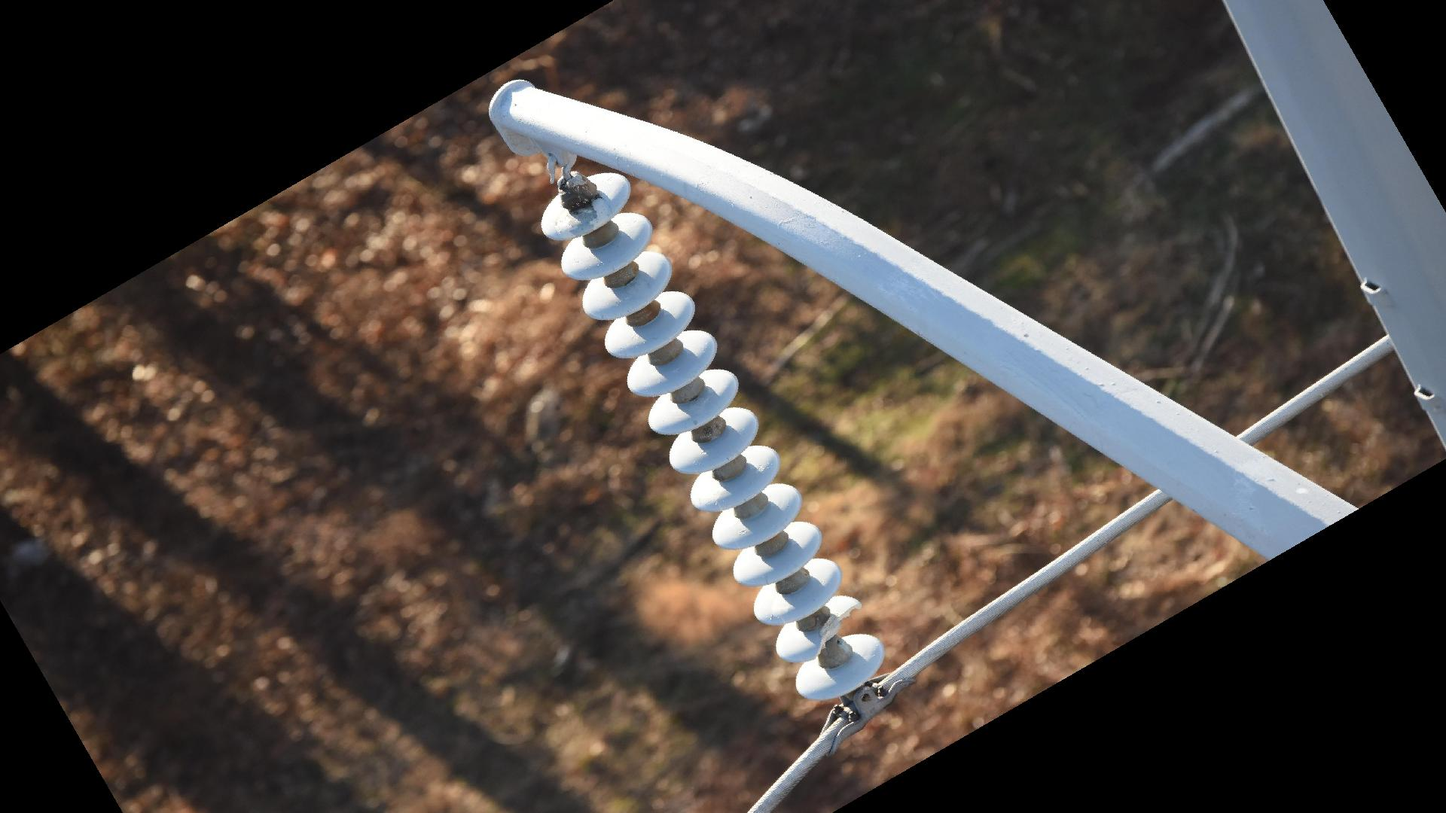insulator: (535, 168, 891, 707)
insulator_breakage: (808, 598, 865, 662)
